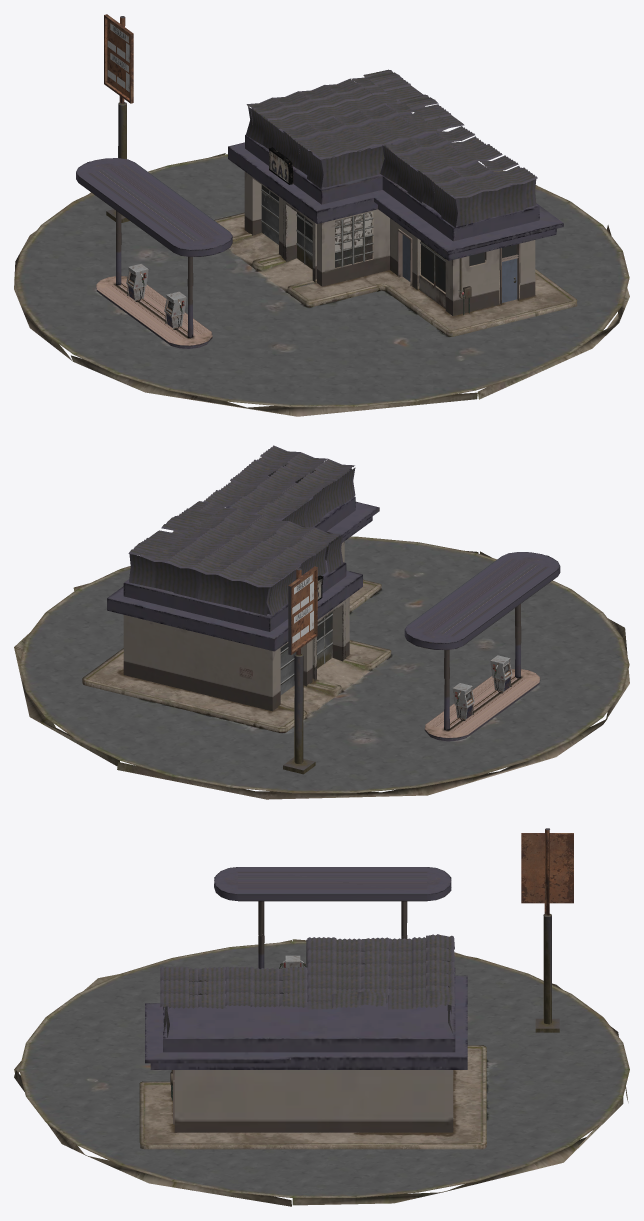
File: posto.gltf
3 views of the same model, one above another, from view 1: azimuth 30°, elevation 25°; view 2: azimuth 150°, elevation 25°; view 3: azimuth 270°, elevation 25° (orthographic).
Visible parts, largest first — view 1: posto; view 2: posto; view 3: posto.
Part boxes in pixels (x1,y1,x2,y2): posto: (14, 14, 629, 416); posto: (14, 445, 629, 799); posto: (14, 828, 629, 1206).
Size of the model in its own units: 17.69 by 6.5 by 17.64.
Materials: 8 (8 with a texture image).
